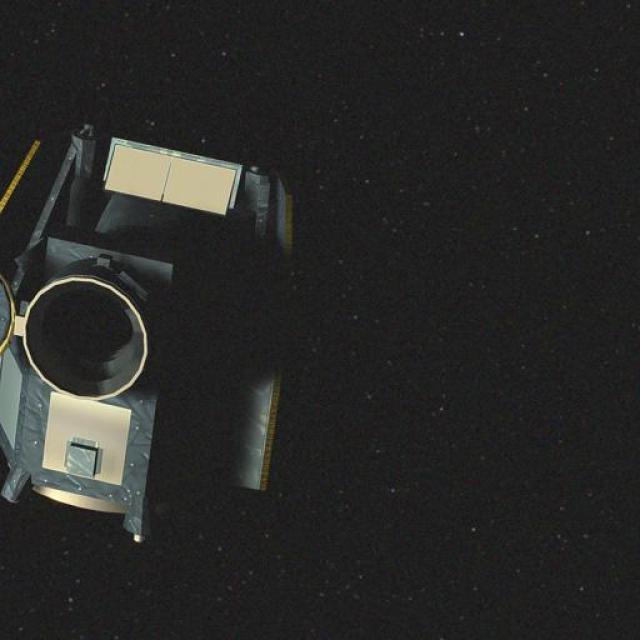cheops: (0, 126, 370, 548)
